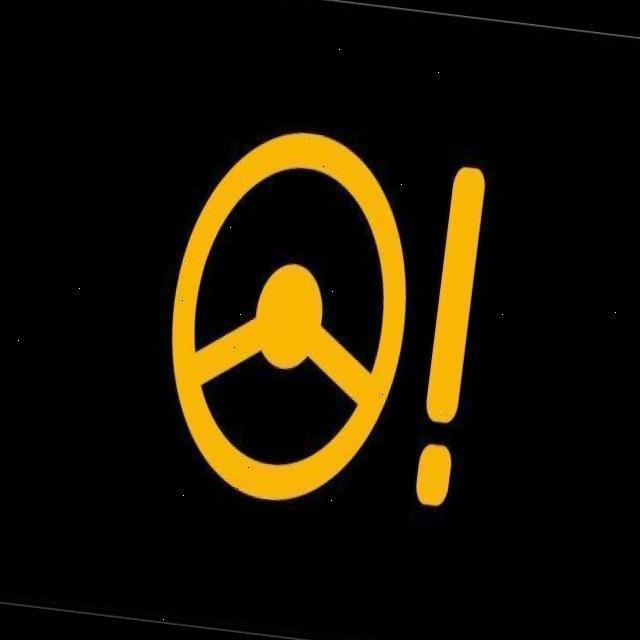Electronic Power Steering Warning: (169, 122, 490, 510)
